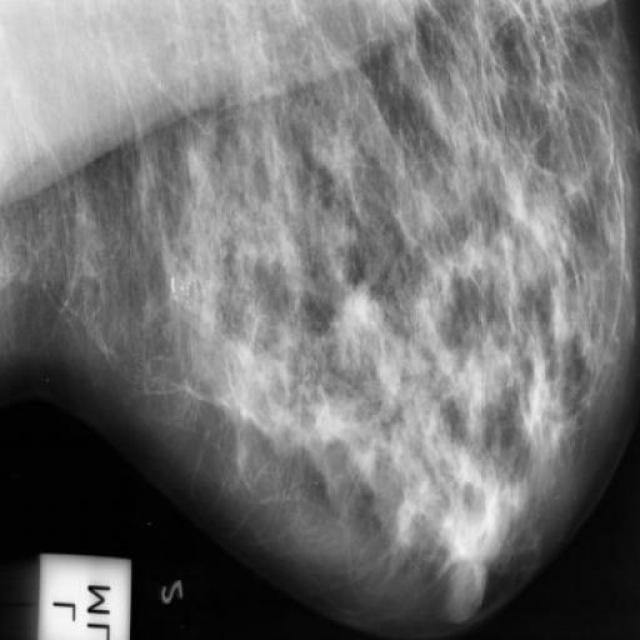cancer: (163, 354, 212, 420)
